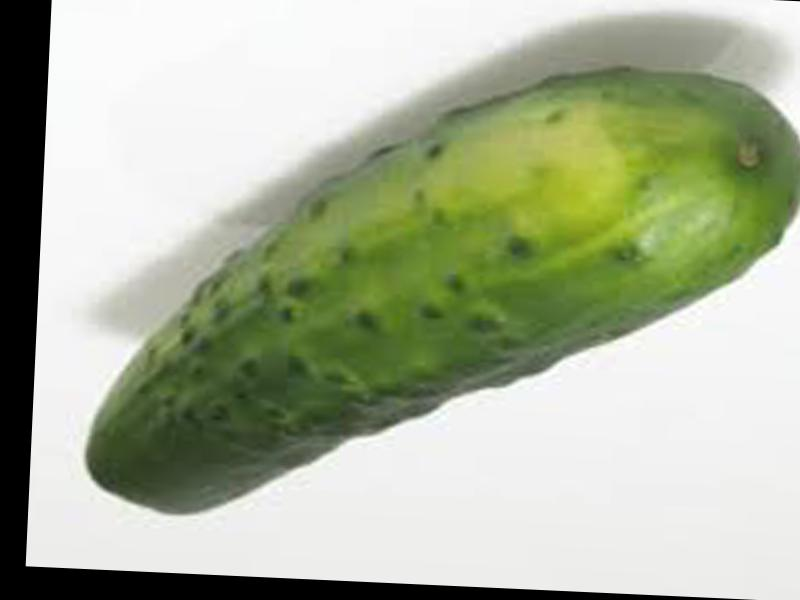Cucumber: (82, 49, 800, 542)
